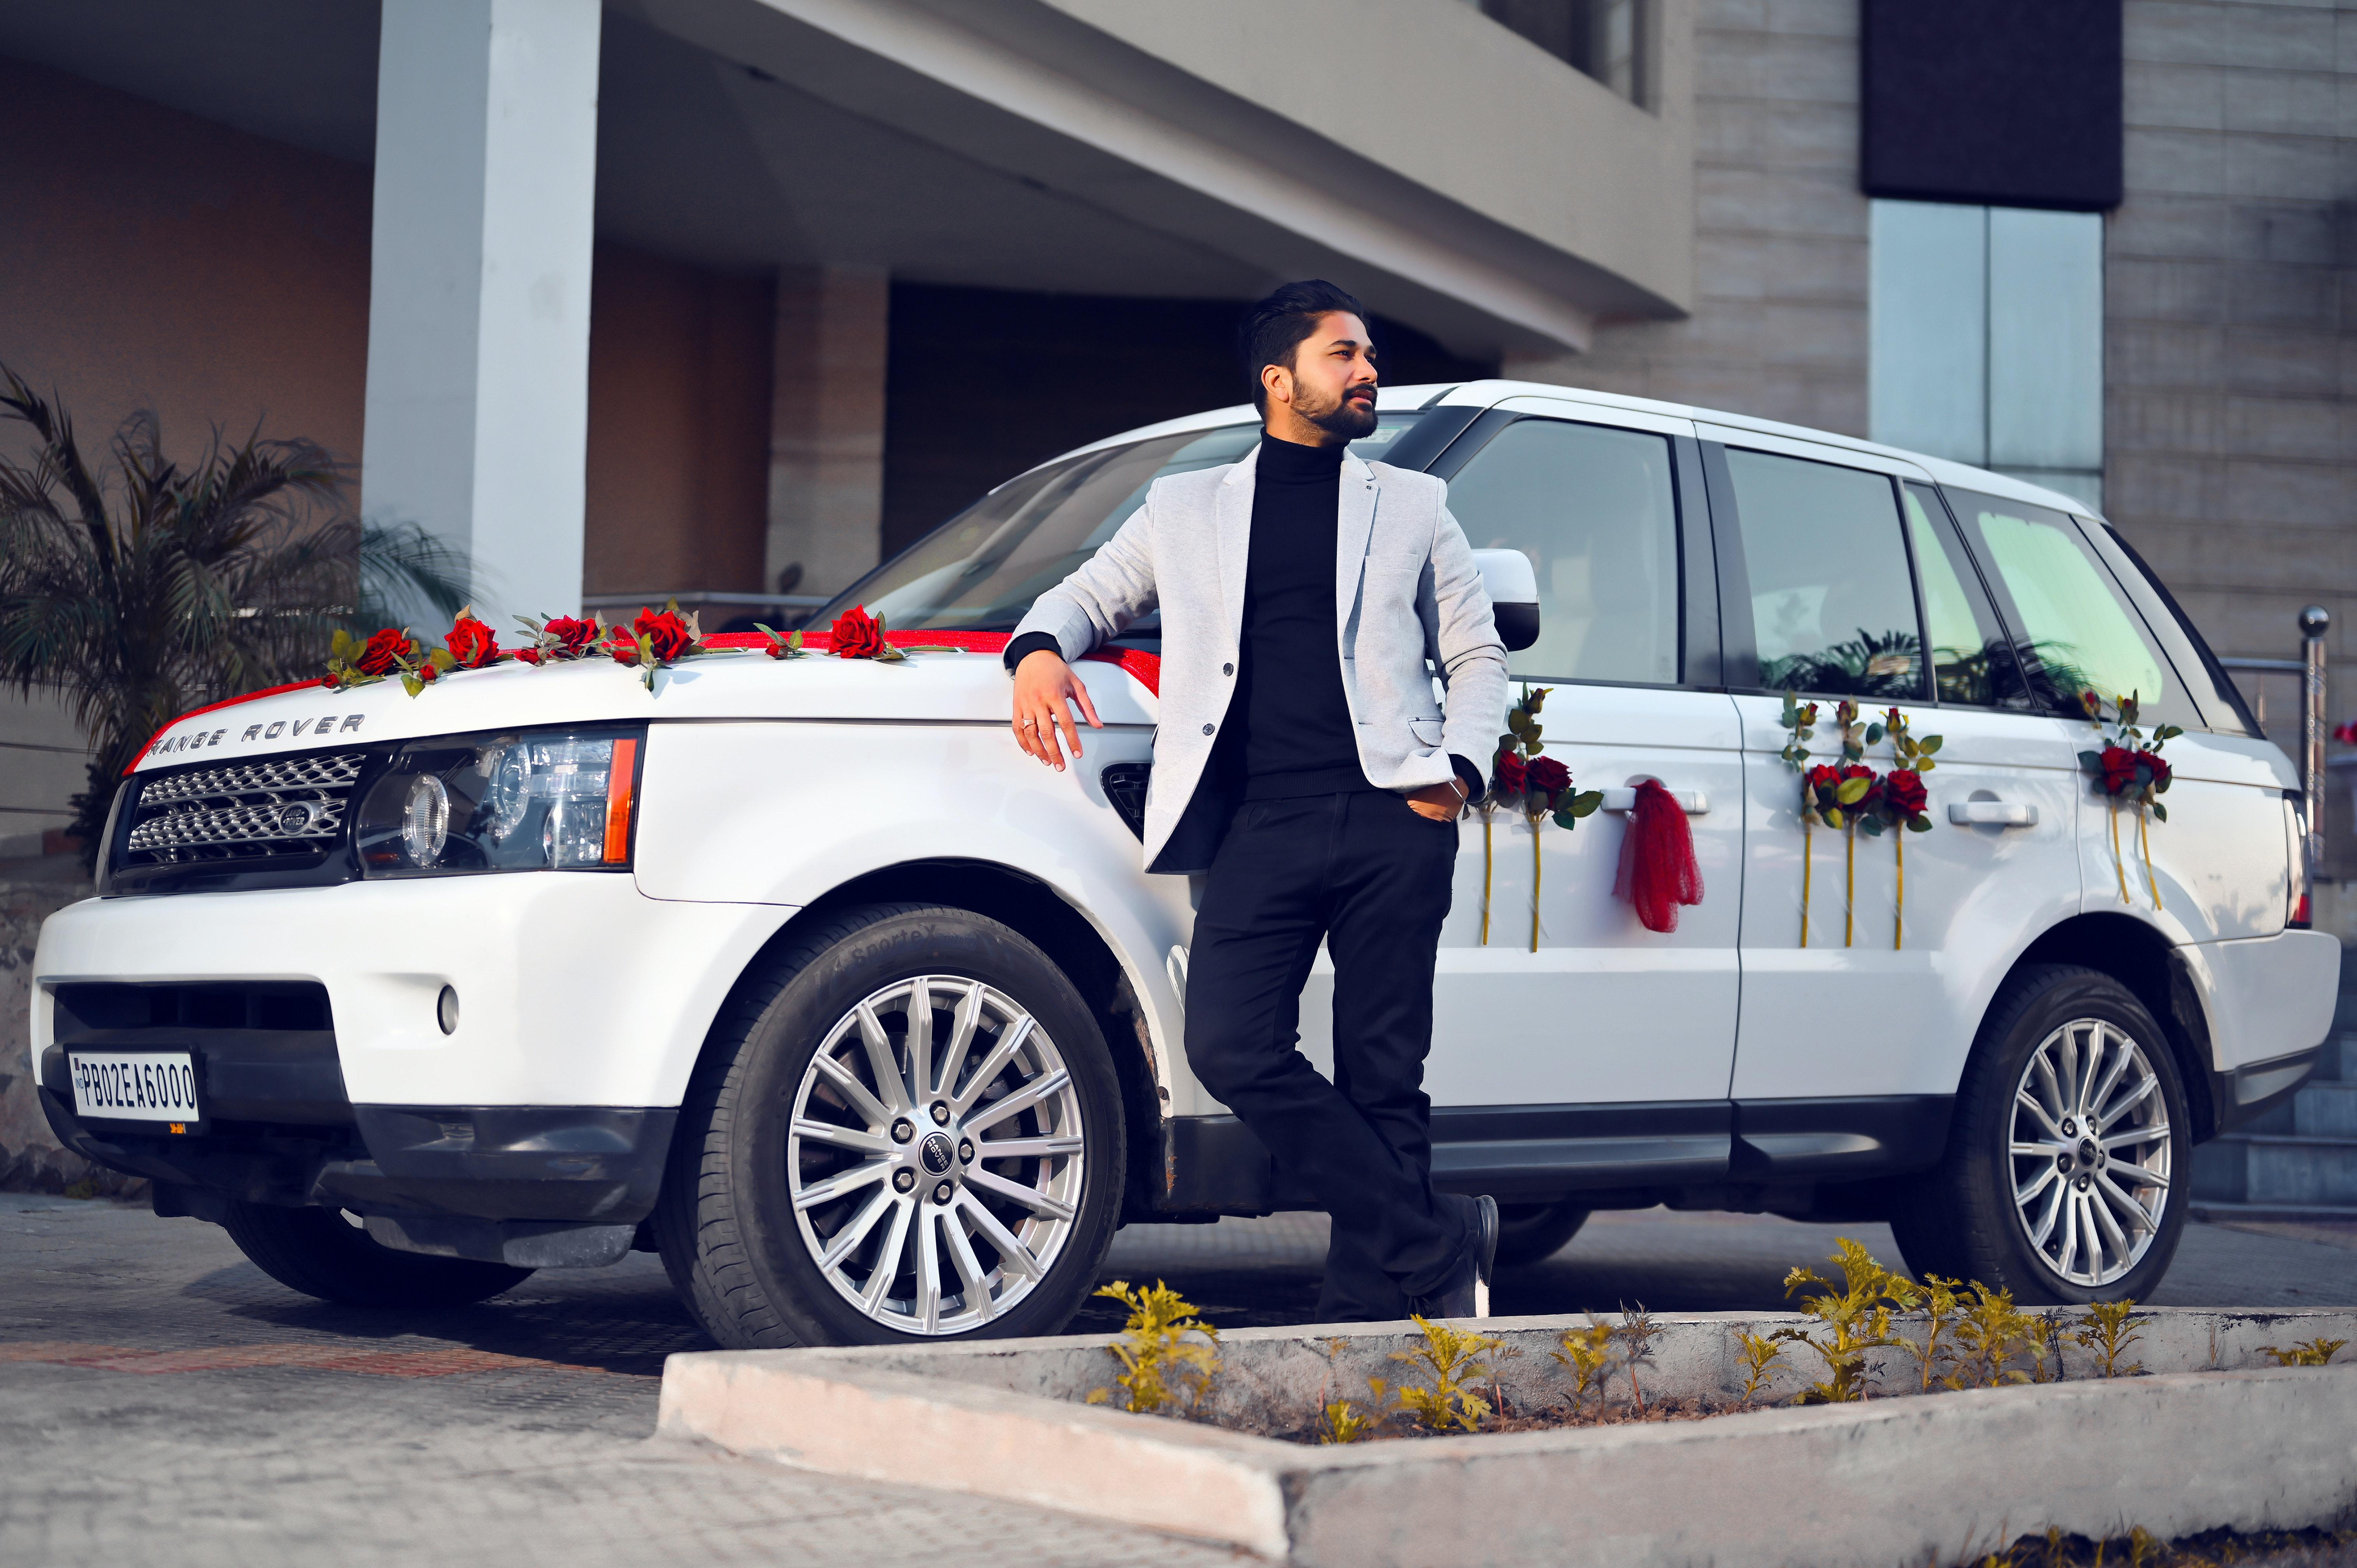range rover: (126, 689, 390, 770)
